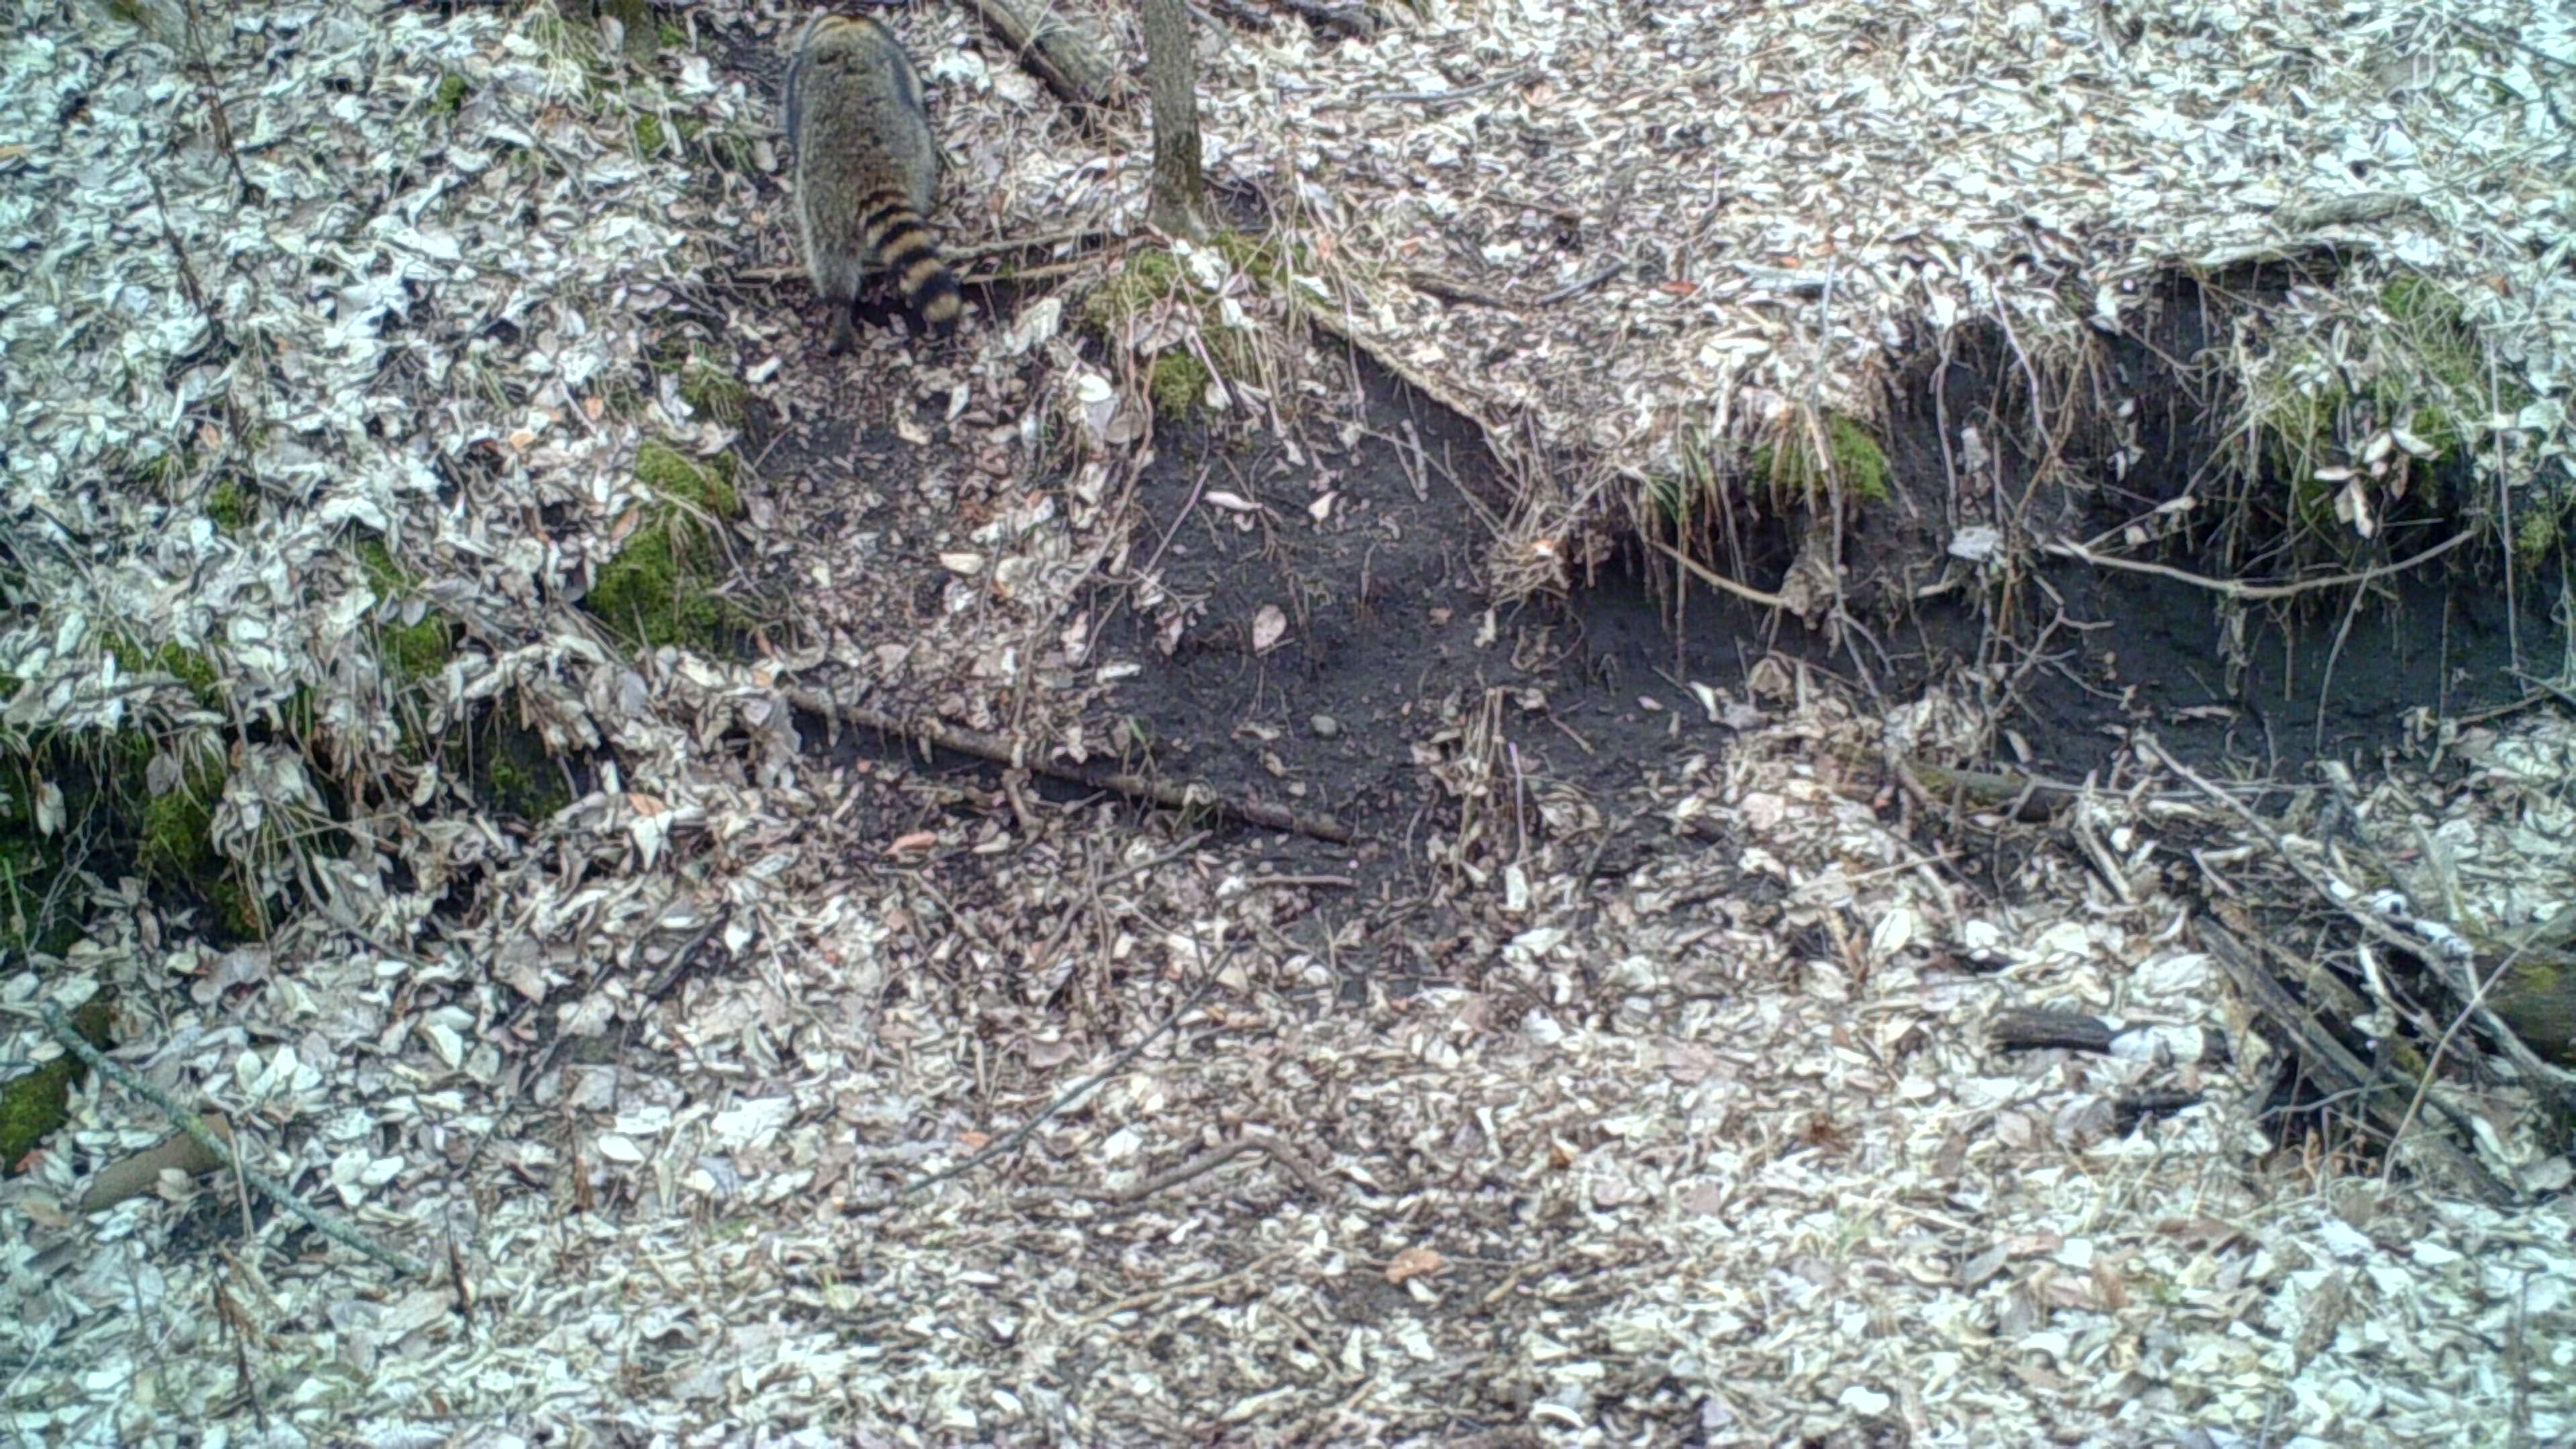Raccoon: (780, 7, 964, 331)
